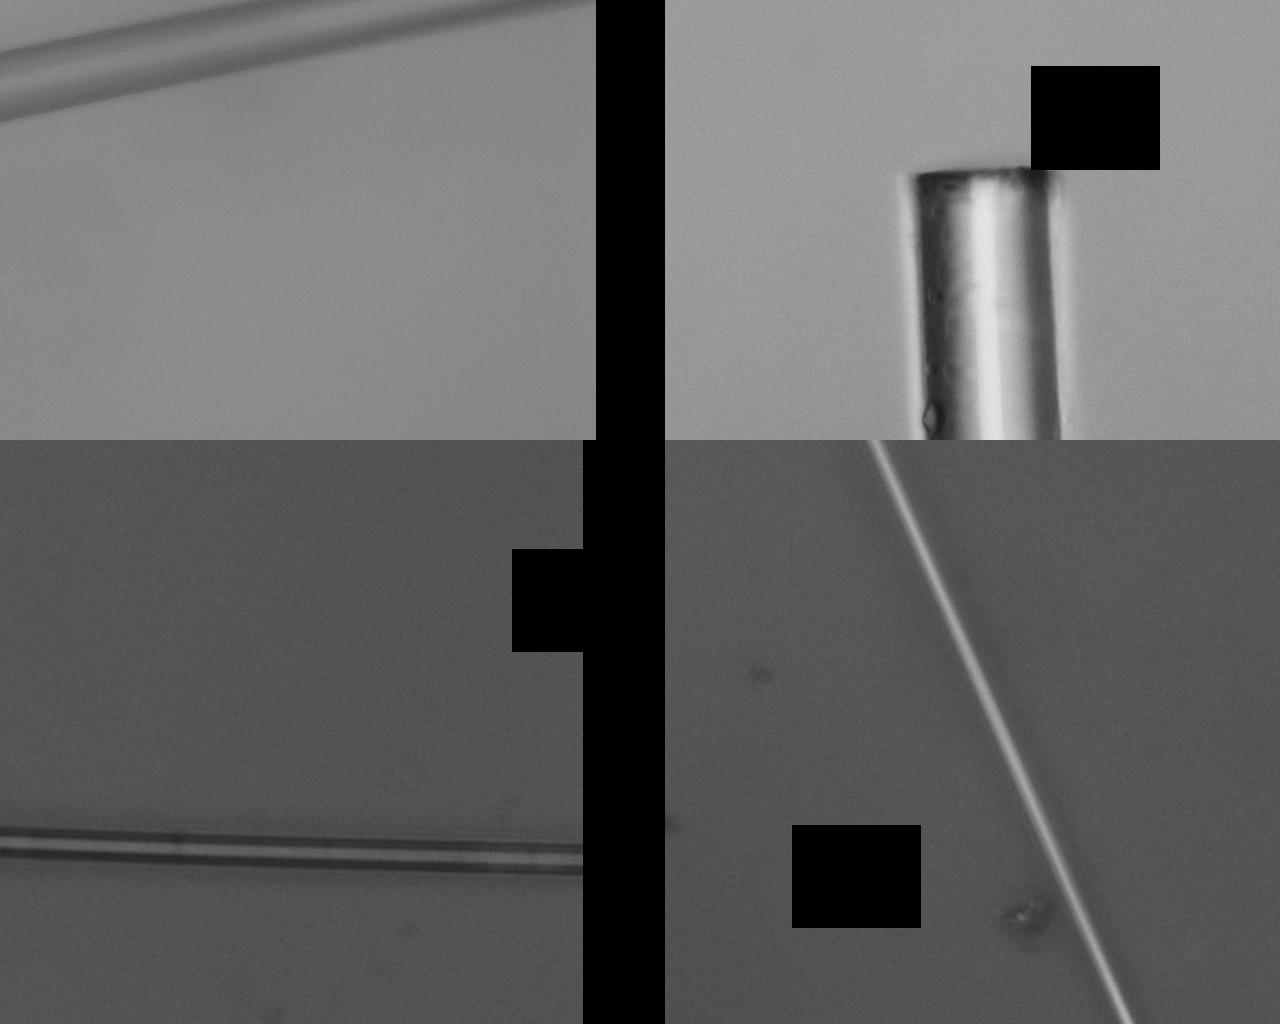fiber: (127, 440, 1151, 771)
